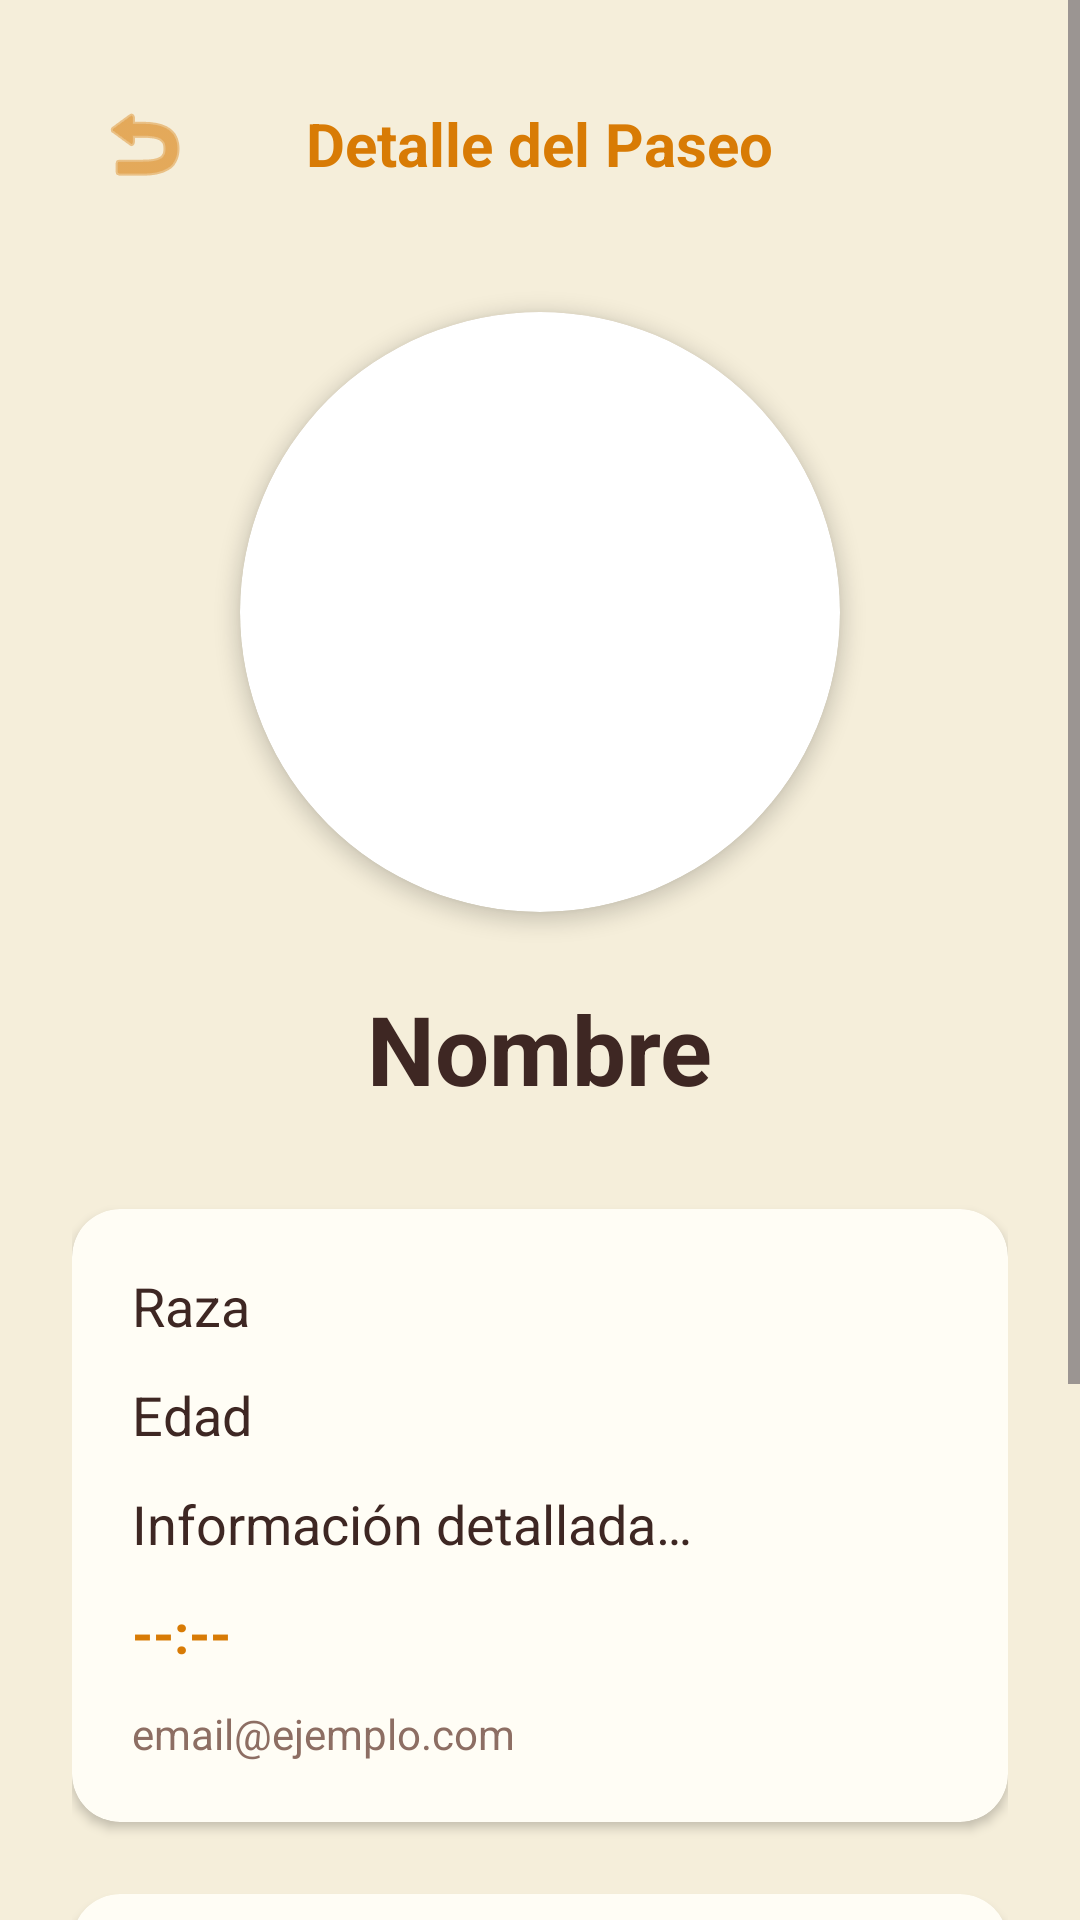

Named icons in this screenshot (1080 × 1920) and their centers, (x=x, y=y):
Volver al login: (x=145, y=144)
